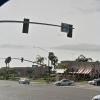Traffic light: (10, 9, 82, 44)
